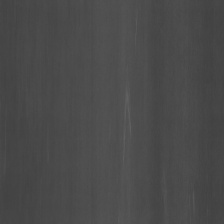silk_spot: (118, 75, 140, 161)
